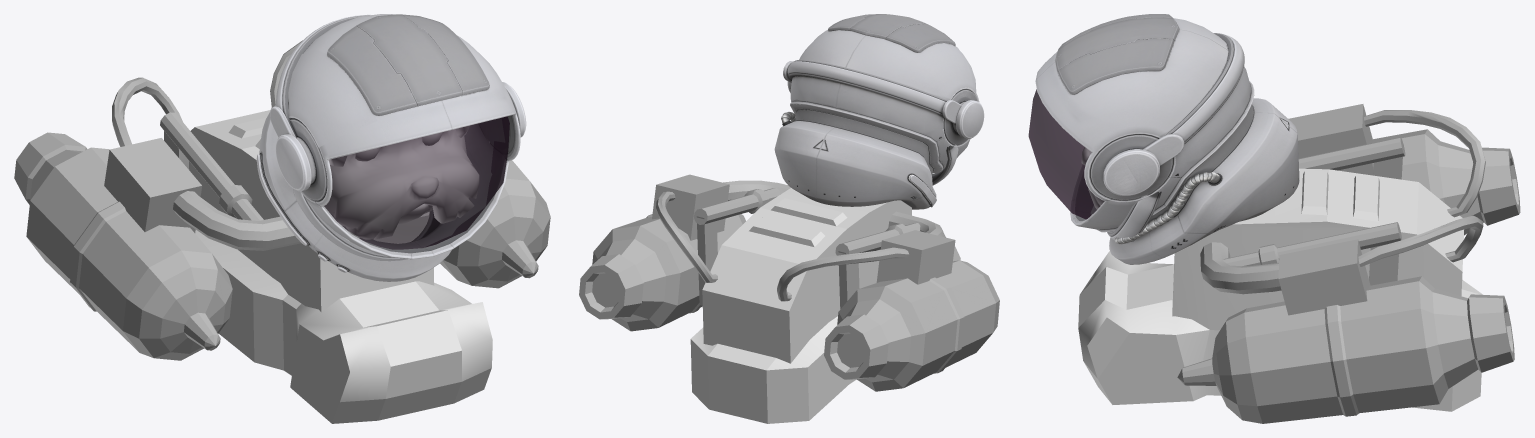
The model's file is AstroYorkie.glb.
3 views of the same model, side by side, from view 1: azimuth 30°, elevation 25°; view 2: azimuth 150°, elevation 25°; view 3: azimuth 270°, elevation 25° (orthographic). The views are drawn at different scales.
Parts seen in each view (by area): view 1: Object_4.002, Object_4.003, Material1-material, Material4-material, Material2-material, Yorkie_body, Material3-material, Material1-material.001; view 2: Object_4.002, Object_4.003, Material4-material, Material1-material, Material3-material, Material1-material.001; view 3: Object_4.002, Object_4.003, Material4-material, Material1-material, Material2-material, Material1-material.001.
Boxes of the visible parts, bbox=[...] form: Object_4.002: bbox=[14, 40, 550, 360]; Object_4.003: bbox=[189, 110, 492, 423]; Material1-material: bbox=[256, 14, 515, 272]; Material4-material: bbox=[259, 14, 526, 281]; Material2-material: bbox=[324, 116, 509, 249]; Yorkie_body: bbox=[324, 125, 479, 239]; Material3-material: bbox=[288, 50, 377, 147]; Material1-material.001: bbox=[293, 124, 489, 261]; Object_4.002: bbox=[579, 174, 999, 391]; Object_4.003: bbox=[690, 188, 960, 423]; Material4-material: bbox=[774, 30, 984, 209]; Material1-material: bbox=[781, 14, 955, 207]; Material3-material: bbox=[898, 43, 973, 100]; Material1-material.001: bbox=[932, 142, 958, 185]; Object_4.002: bbox=[1177, 104, 1520, 423]; Object_4.003: bbox=[1078, 168, 1483, 411]; Material4-material: bbox=[1035, 18, 1299, 264]; Material1-material: bbox=[1055, 14, 1244, 244]; Material2-material: bbox=[1028, 89, 1104, 219]; Material1-material.001: bbox=[1107, 187, 1161, 243].
Bounding box in the file's own units: 0.3933 × 0.329 × 0.4161.
9 materials, 3 textured.
